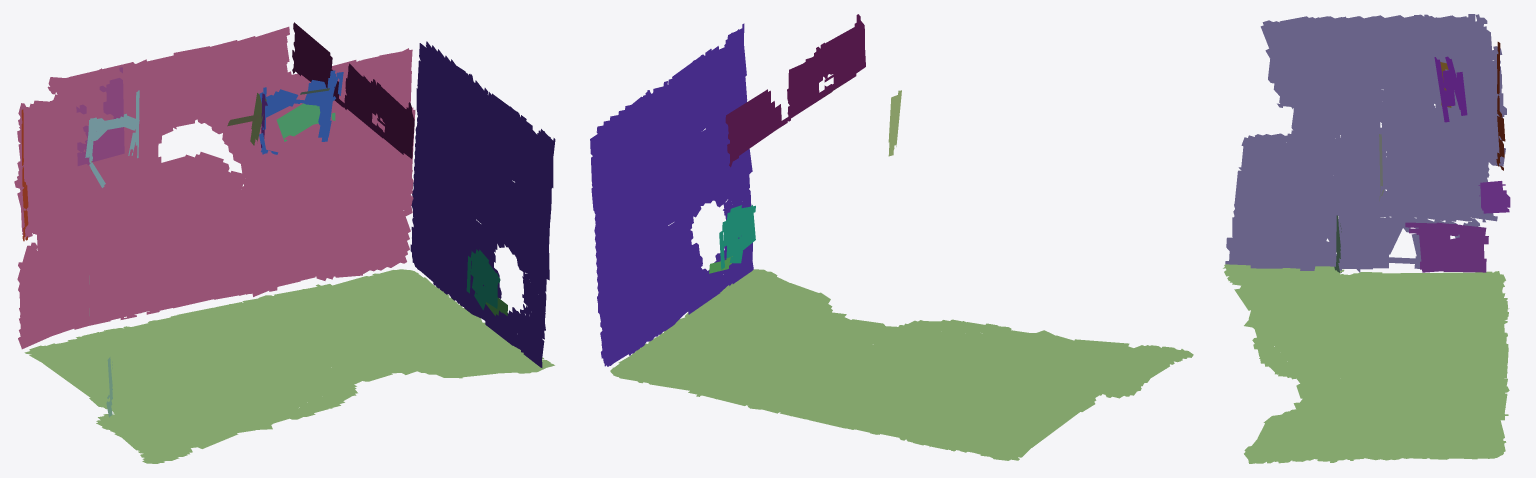
The model's file is scene0146_00_simple.glb.
3 views of the same model, side by side, from view 1: azimuth 30°, elevation 25°; view 2: azimuth 150°, elevation 25°; view 3: azimuth 270°, elevation 25° (orthographic). The views are drawn at different scales.
Bounding box in the file's own units: 3.14 × 2.11 × 2.03.
